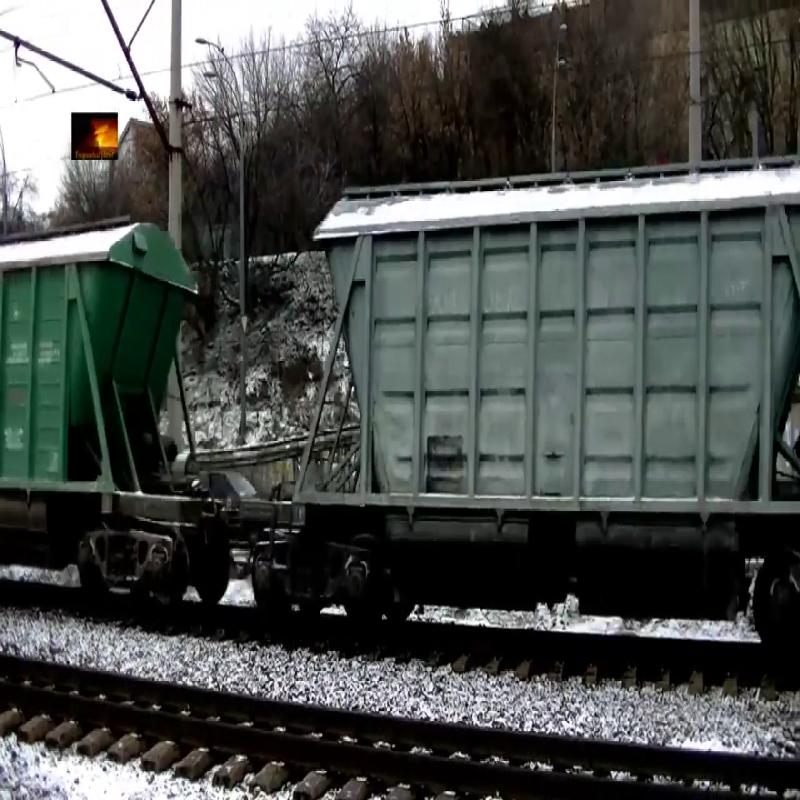train: (290, 151, 800, 565), (2, 213, 202, 555)
